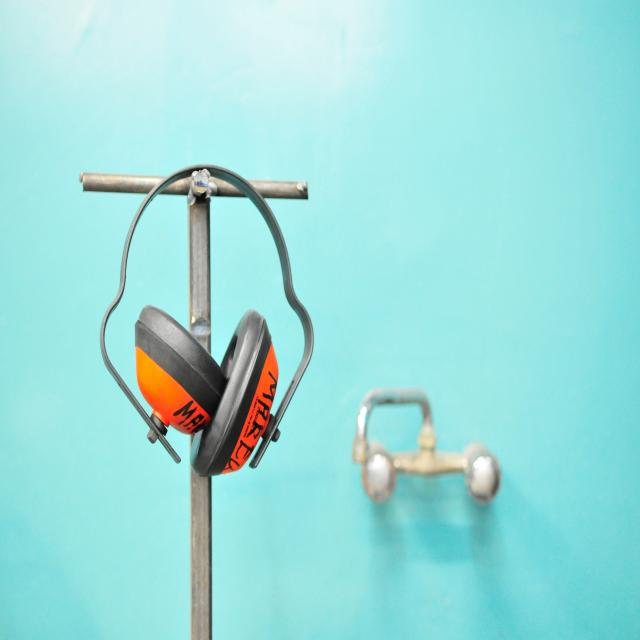Headphone: (101, 161, 314, 469)
